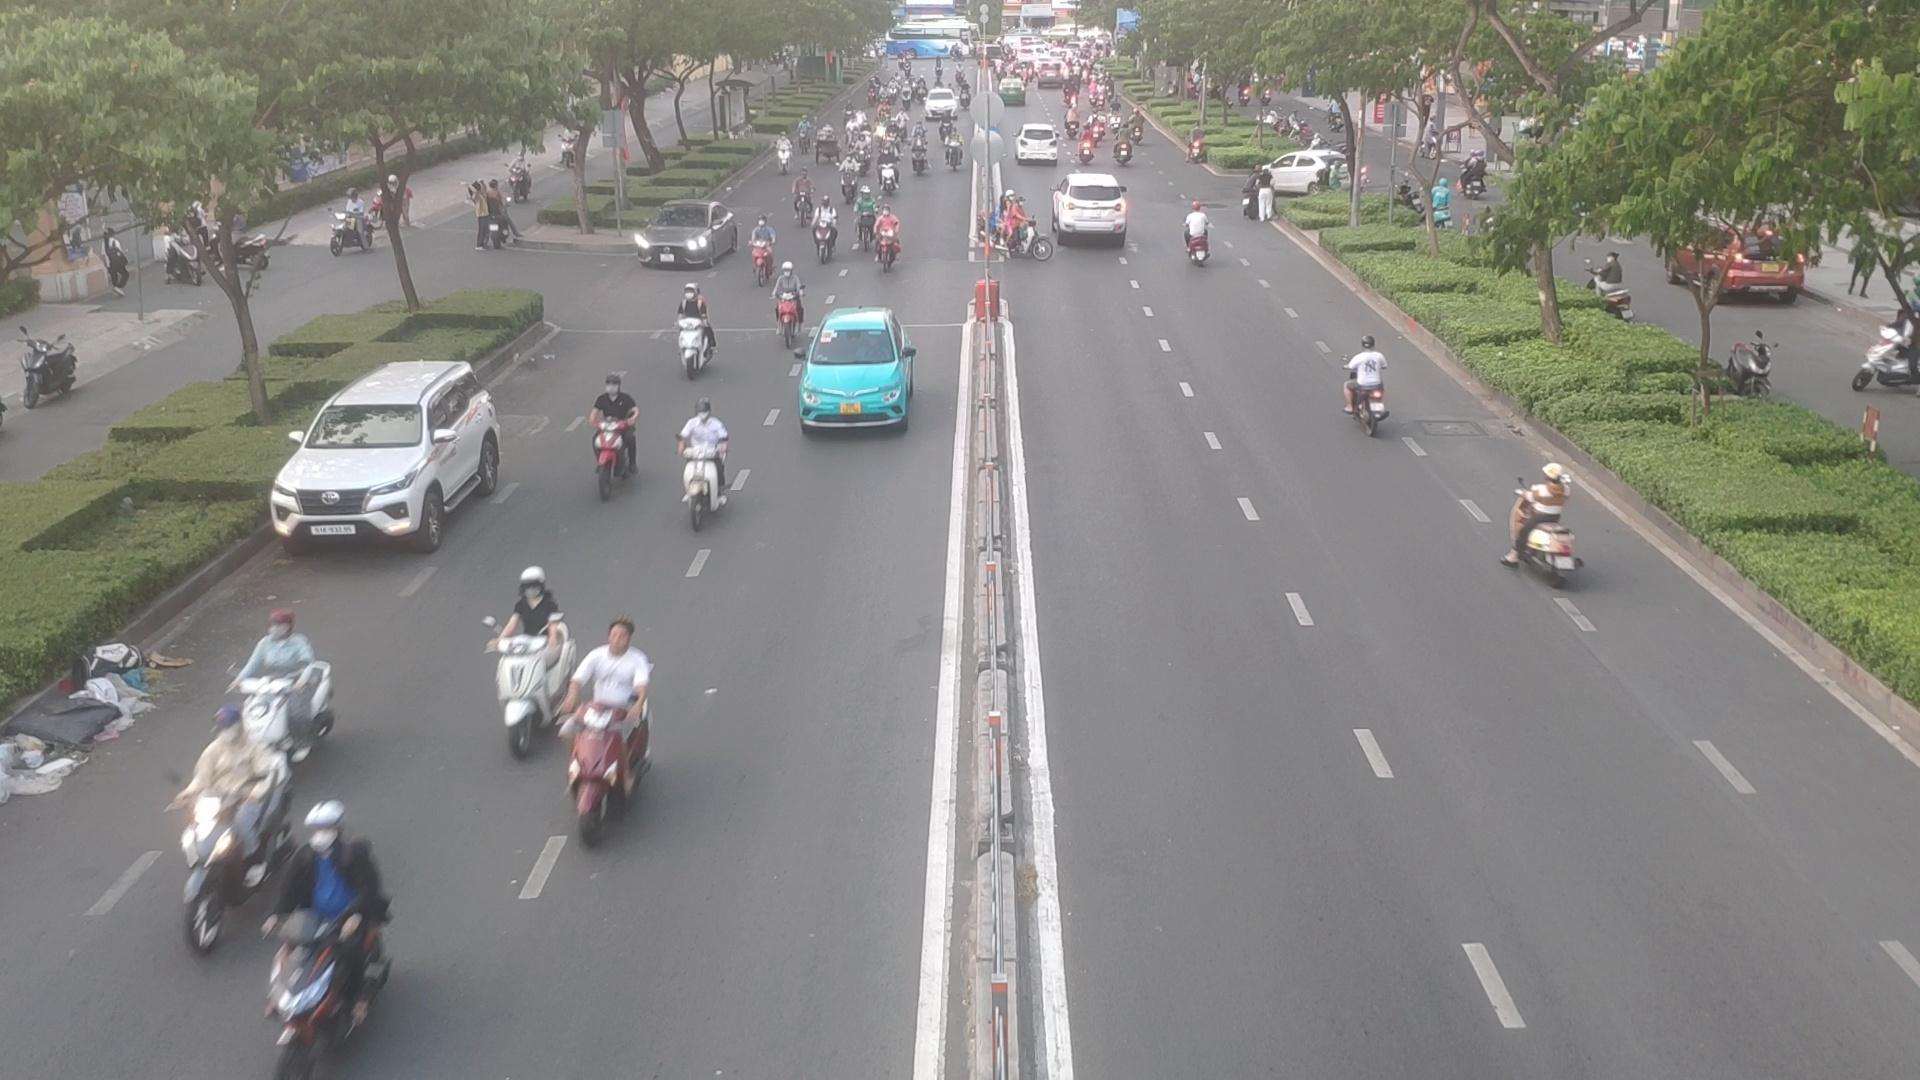car: (270, 361, 506, 558), (796, 307, 916, 438), (636, 202, 738, 268), (1059, 175, 1133, 237), (1263, 149, 1342, 194), (1013, 127, 1062, 164)
motorbike: (256, 798, 400, 1058), (560, 616, 680, 829), (179, 721, 281, 948), (227, 616, 334, 770), (487, 567, 566, 756), (1505, 465, 1581, 588), (676, 404, 737, 530), (1855, 327, 1920, 393), (604, 363, 636, 495), (988, 196, 1051, 262), (1342, 343, 1387, 423), (669, 309, 715, 377), (874, 196, 909, 264), (750, 212, 775, 284), (1185, 202, 1215, 262), (781, 262, 804, 335), (855, 185, 880, 248), (814, 195, 839, 255), (795, 169, 816, 219), (775, 131, 796, 174), (944, 127, 964, 170), (1075, 121, 1095, 164), (881, 144, 899, 189), (909, 135, 926, 175), (849, 135, 866, 169), (843, 150, 855, 196), (1116, 117, 1127, 162)
